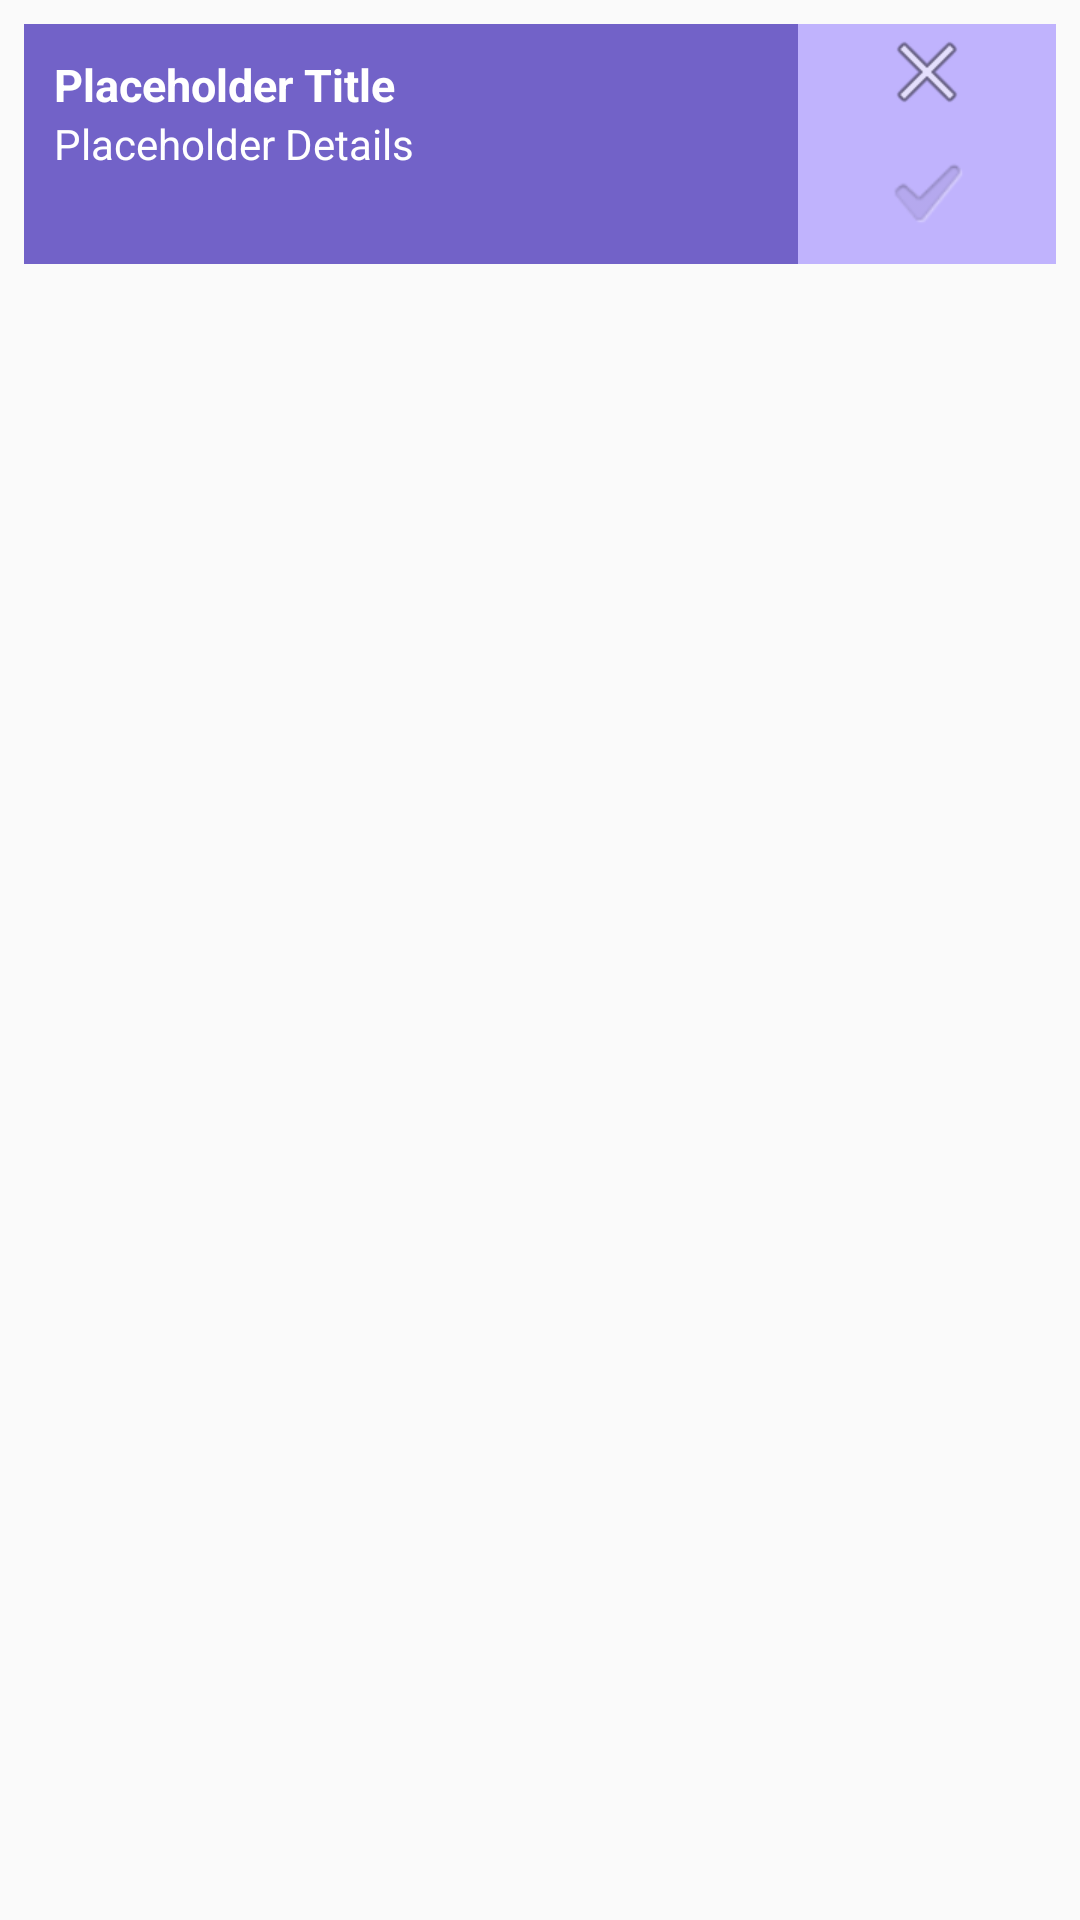

Icons on this 1080*1920 Android screen, each with the point to tap as [x,y]:
Accept Request: [927,192]
close clear cancel: [927,72]
